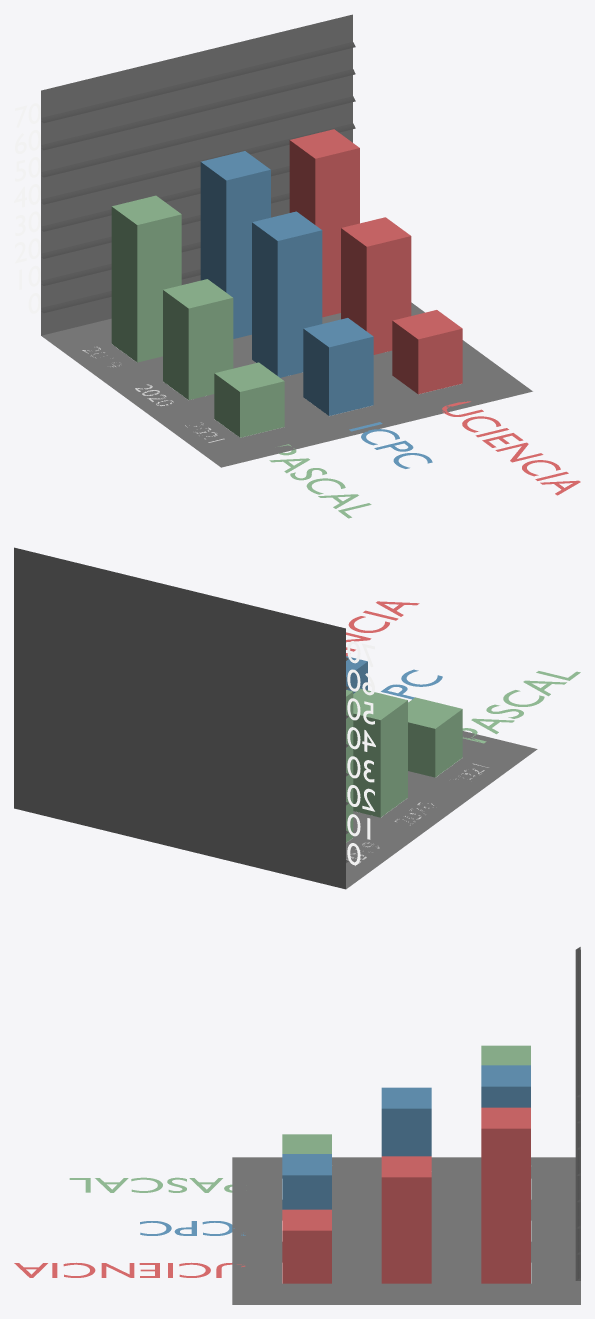
The model's file is bar-graphic.gltf.
The picture shows the model from 3 angles, top to bottom: view 1: azimuth 30°, elevation 25°; view 2: azimuth 150°, elevation 25°; view 3: azimuth 270°, elevation 25°; orthographic projection. The views are drawn at different scales.
Parts seen in each view (by area): view 1: Plano, Plano.001, barra5, barra3, barra6, barra9, barra8, barra2, barra4, barra7, barra1, Texto.011 (+2 smaller); view 2: Plano, barra2, barra1, Texto.013, barra3, Texto.011, barra4, Texto.012; view 3: Plano, barra9, barra8, barra7, barra5, barra4, barra6, Plano.001, Texto.011, barra3, barra1, Texto.013 (+1 smaller).
Boxes of the visible parts, <box> form: Plano: <box>41,14,532,467</box>; Plano.001: <box>41,42,355,312</box>; barra5: <box>252,211,322,377</box>; barra3: <box>111,195,181,362</box>; barra6: <box>200,151,270,338</box>; barra9: <box>289,129,359,317</box>; barra8: <box>341,217,411,354</box>; barra2: <box>163,279,233,399</box>; barra4: <box>303,318,373,415</box>; barra7: <box>392,310,462,394</box>; barra1: <box>214,362,284,437</box>; Texto.011: <box>442,401,580,495</box>; Plano: <box>14,547,537,889</box>; barra2: <box>353,688,407,817</box>; barra1: <box>408,697,462,777</box>; Texto.013: <box>462,671,580,743</box>; barra3: <box>346,690,353,842</box>; Texto.011: <box>346,601,419,656</box>; barra4: <box>346,656,367,693</box>; Texto.012: <box>381,669,442,699</box>; Plano: <box>232,1157,580,1304</box>; barra9: <box>481,1107,530,1283</box>; barra8: <box>381,1156,431,1283</box>; barra7: <box>282,1209,331,1283</box>; barra5: <box>381,1087,431,1156</box>; barra4: <box>282,1154,331,1209</box>; barra6: <box>481,1065,530,1107</box>; Plano.001: <box>575,947,580,1280</box>; Texto.011: <box>14,1262,245,1277</box>; barra3: <box>481,1045,530,1065</box>; barra1: <box>282,1134,331,1153</box>; Texto.013: <box>69,1177,232,1192</box>.
Bounding box in the file's own units: 2.18 × 1.5 × 3.26.
